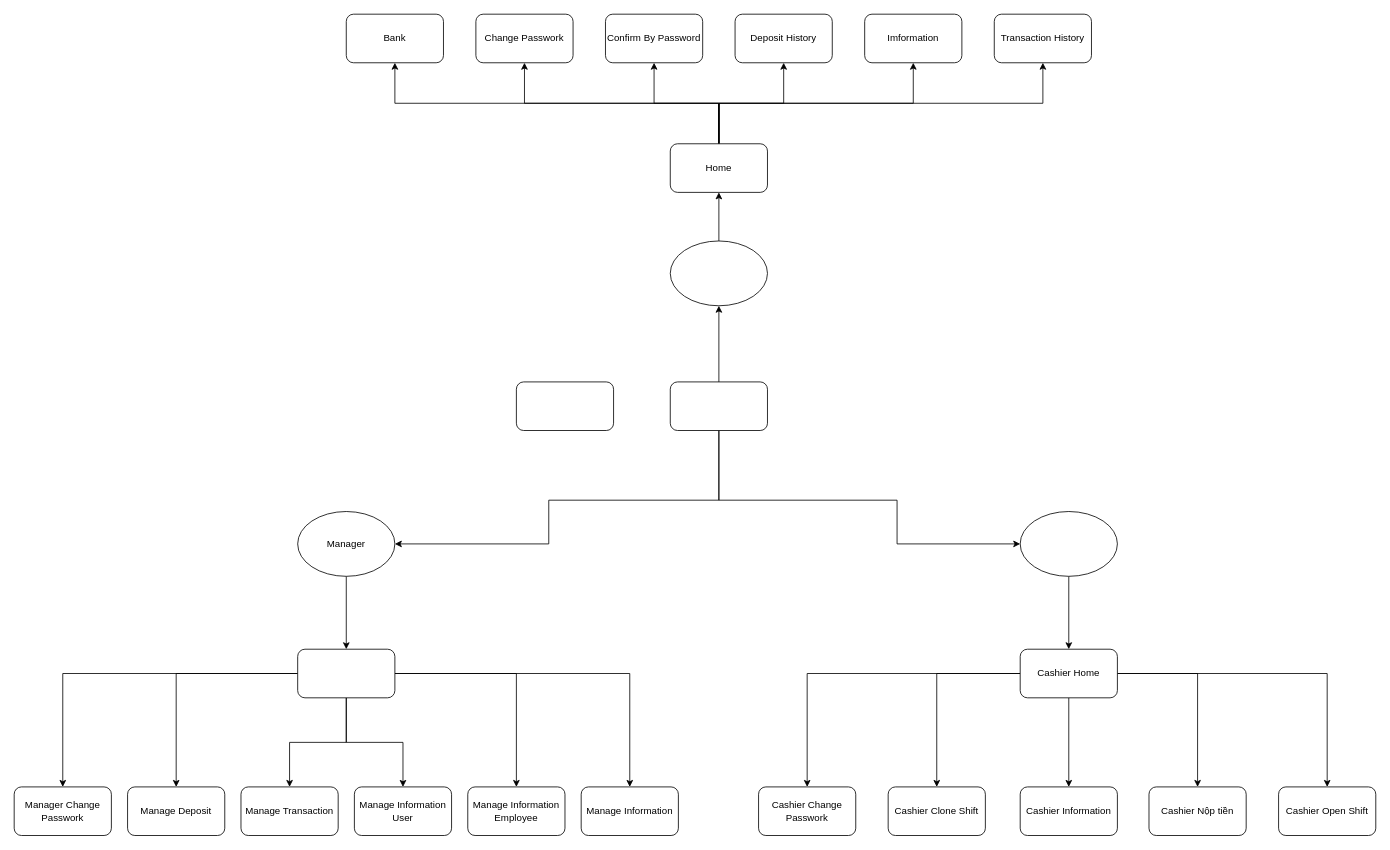
Some shapes in this 1390 by 850 pixel diagram are drawn without their labels. Each missing label, with the centre of its shape:
Cashier: [1068,543]
ForGot Form: [565,406]
Login Form: [718,406]
Manage Home: [346,673]
User: [718,273]
